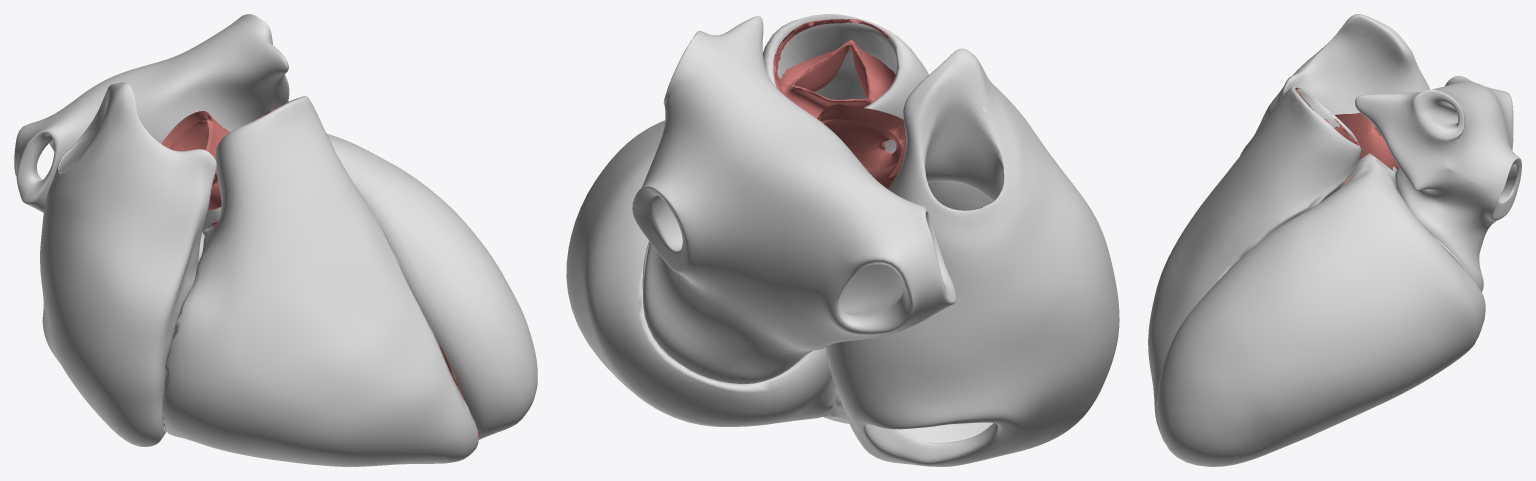
File: vh_m_heart-80.fbx
The picture shows the model from 3 angles, left to right: view 1: azimuth 30°, elevation 25°; view 2: azimuth 150°, elevation 25°; view 3: azimuth 270°, elevation 25°; orthographic projection. The views are drawn at different scales.
Parts seen in each view (by area): view 1: VH_M_heart_right_ventricle, VH_M_right_cardiac_atrium, VH_M_heart_left_ventricle, VH_M_left_cardiac_atrium, VH_M_aortic_valve; view 2: VH_M_left_cardiac_atrium, VH_M_right_cardiac_atrium, VH_M_heart_left_ventricle, VH_M_heart_right_ventricle, VH_M_pulmonary_valve, VH_M_aortic_valve; view 3: VH_M_heart_left_ventricle, VH_M_heart_right_ventricle, VH_M_left_cardiac_atrium, VH_M_right_cardiac_atrium, VH_M_aortic_valve.
Part boxes in pixels (x1,y1,x2,y2): VH_M_heart_right_ventricle: (162, 96, 478, 466); VH_M_right_cardiac_atrium: (40, 82, 216, 446); VH_M_heart_left_ventricle: (202, 133, 537, 439); VH_M_left_cardiac_atrium: (14, 14, 289, 212); VH_M_aortic_valve: (161, 111, 229, 210); VH_M_left_cardiac_atrium: (632, 16, 956, 383); VH_M_right_cardiac_atrium: (826, 48, 1119, 466); VH_M_heart_left_ventricle: (566, 120, 833, 426); VH_M_heart_right_ventricle: (763, 14, 928, 423); VH_M_pulmonary_valve: (773, 19, 895, 118); VH_M_aortic_valve: (817, 104, 905, 188); VH_M_heart_left_ventricle: (1156, 153, 1485, 466); VH_M_heart_right_ventricle: (1148, 86, 1360, 442); VH_M_left_cardiac_atrium: (1355, 76, 1521, 291); VH_M_right_cardiac_atrium: (1240, 14, 1429, 155); VH_M_aortic_valve: (1334, 112, 1398, 169).
Size of the model in its own units: 12.44 by 10.54 by 10.52.
